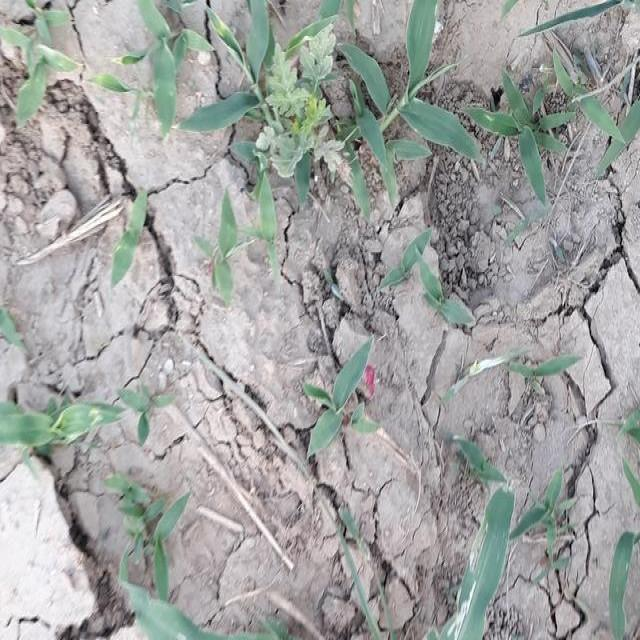weed: (133, 0, 634, 199), (292, 323, 378, 453)
